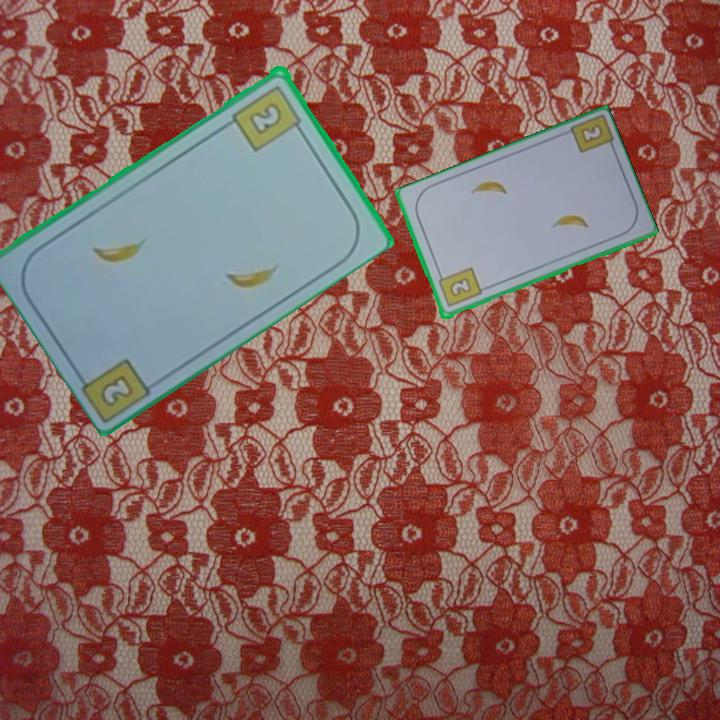2b: (229, 81, 307, 154), (434, 264, 484, 310), (100, 374, 133, 406), (577, 121, 605, 146)
